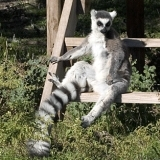cat: (27, 9, 131, 155)
